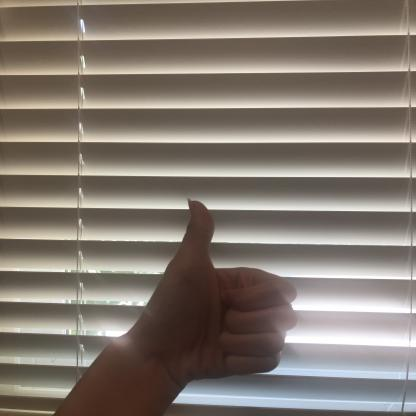Thumbs-Up: (136, 192, 302, 382)
